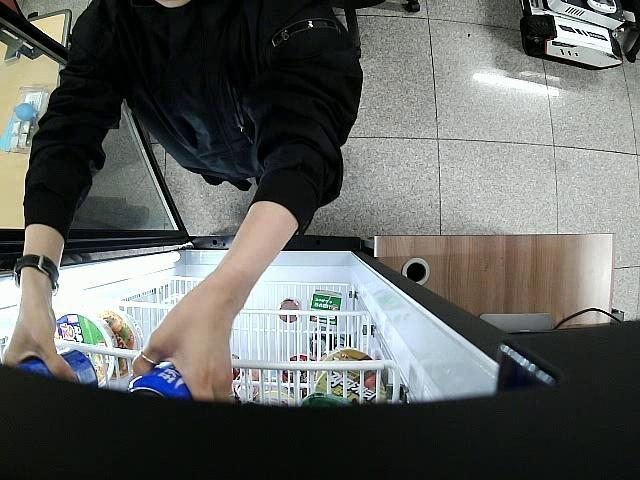13_pocariSweat: (16, 346, 100, 389), (127, 365, 196, 404)
